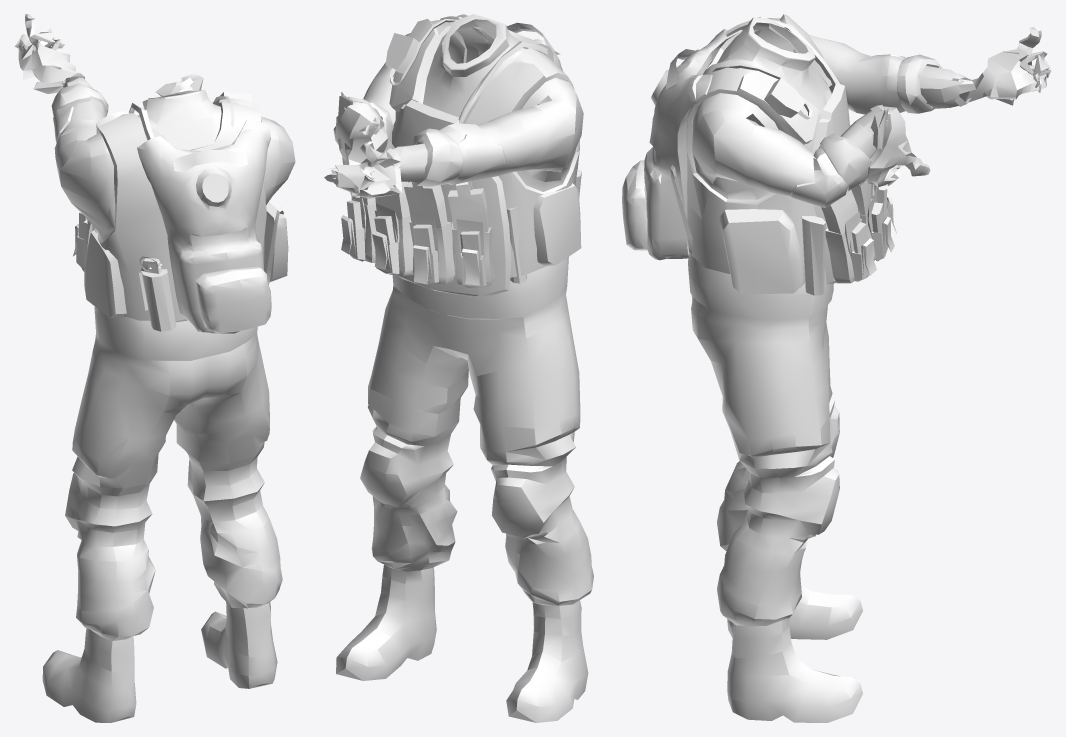
File: stf_rifle.glb
The picture shows the model from 3 angles, left to right: view 1: azimuth 30°, elevation 25°; view 2: azimuth 150°, elevation 25°; view 3: azimuth 270°, elevation 25°; orthographic projection. The views are drawn at different scales.
Visible parts, largest first — view 1: body_STF, gear_STF; view 2: body_STF, gear_STF; view 3: body_STF, gear_STF.
Part boxes in pixels (left/top/right/bottom): body_STF: left=14, top=14, right=295, bottom=722; gear_STF: left=73, top=92, right=288, bottom=333; body_STF: left=324, top=14, right=593, bottom=722; gear_STF: left=341, top=14, right=581, bottom=287; body_STF: left=681, top=14, right=1051, bottom=722; gear_STF: left=622, top=16, right=896, bottom=295.
Size of the model in its own units: 58.88 by 164 by 98.7.
2 materials, 2 textured.
